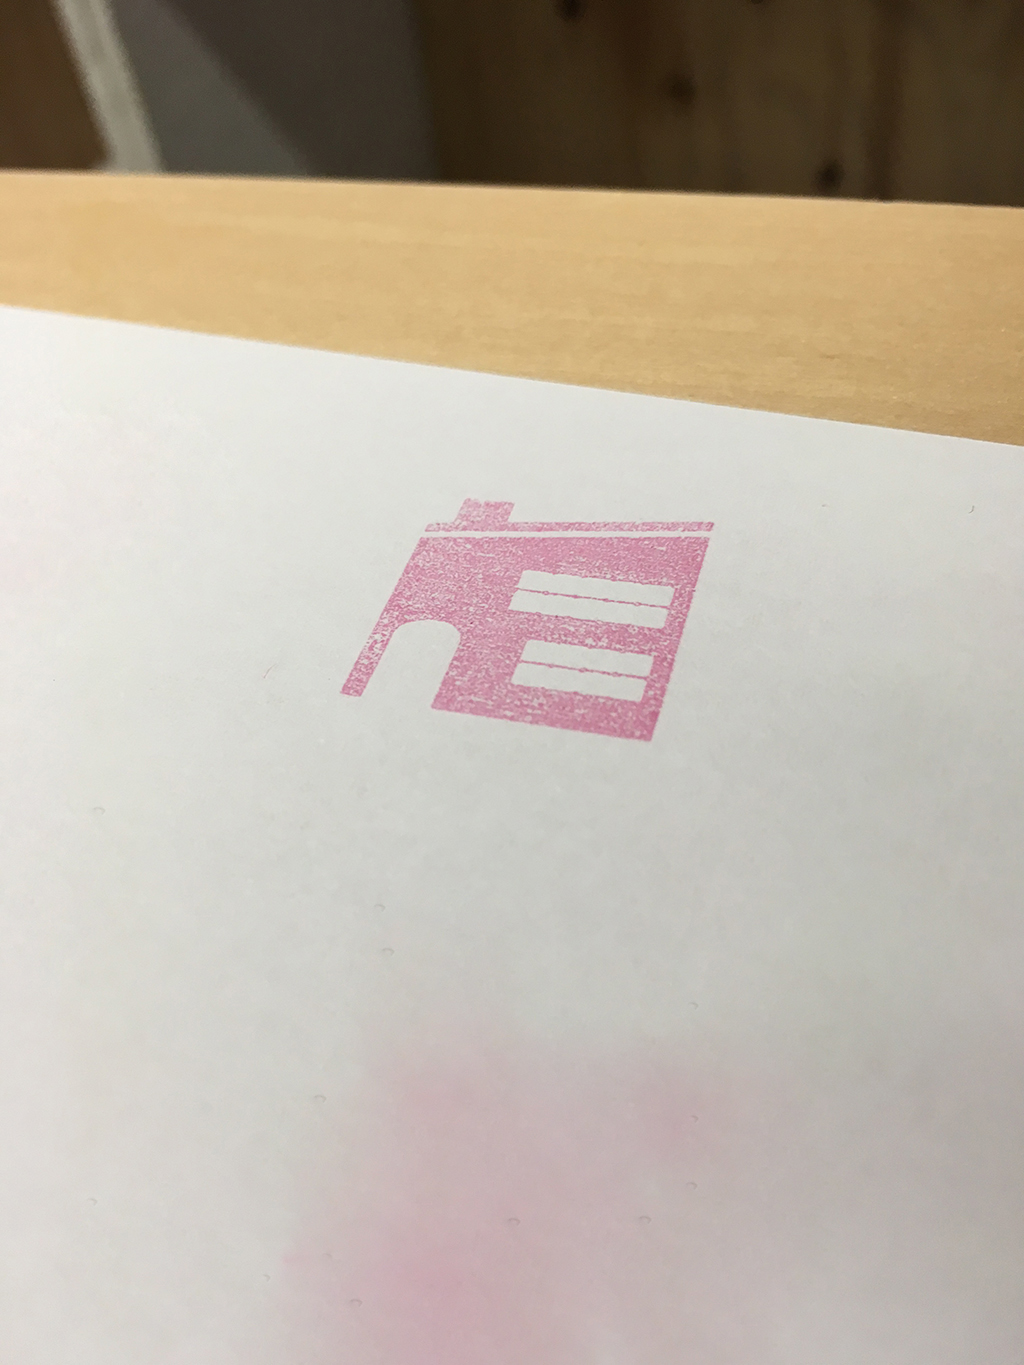house: (323, 471, 733, 765)
